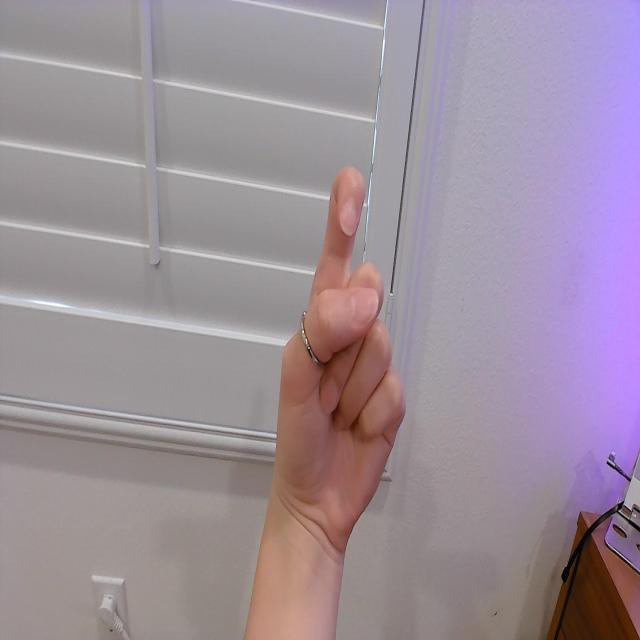X: (270, 162, 410, 529)
